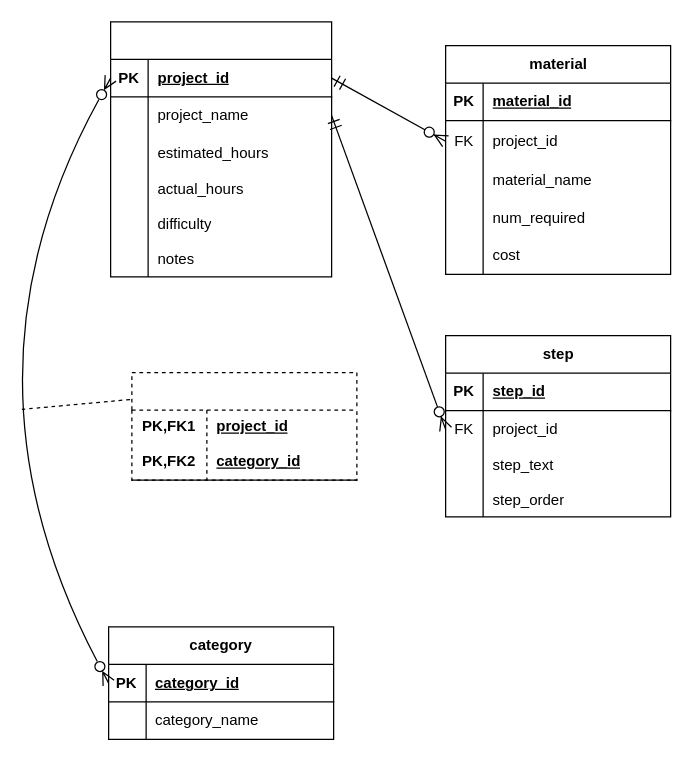
This 693x761 diagram has some shape labels left out. The shapes that lost their labels are listed below. From the top down, each one's box as (x1, y1, x2, y2) in pixels, then its label:
(109, 21, 332, 277): Table
(131, 371, 357, 480): project_category
